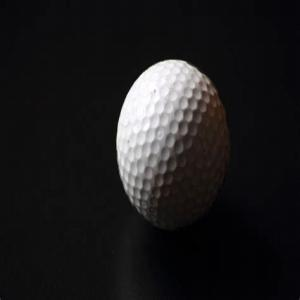Golf: (115, 54, 235, 236)
